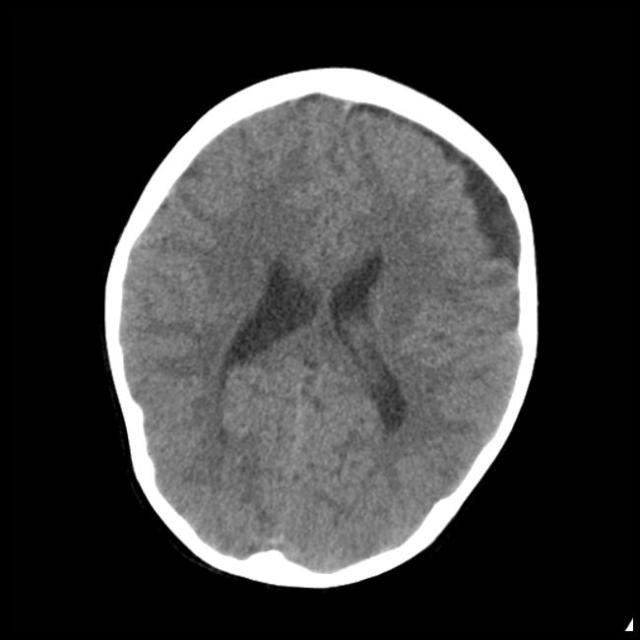lesion: (105, 78, 537, 584)
